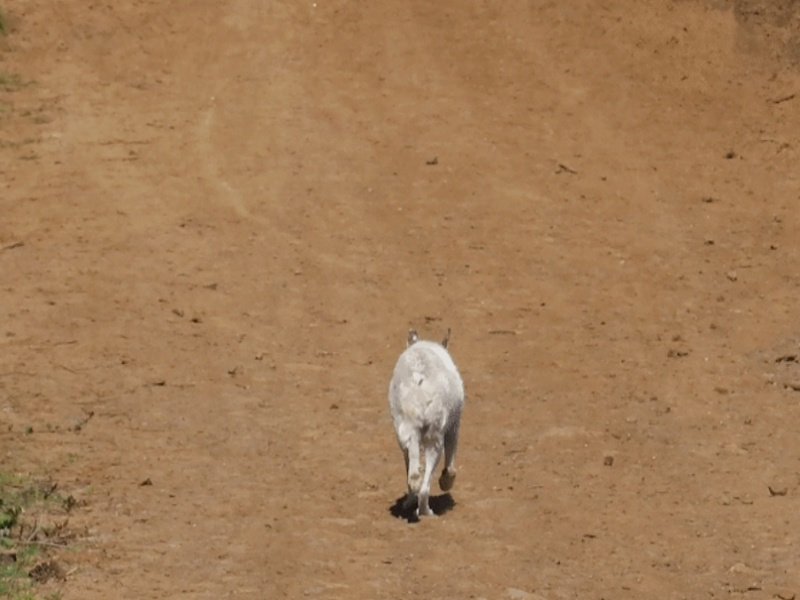dog: (384, 324, 472, 518)
